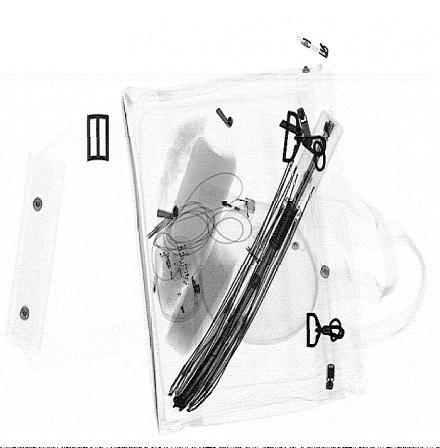Lighter: (199, 181, 256, 224)
